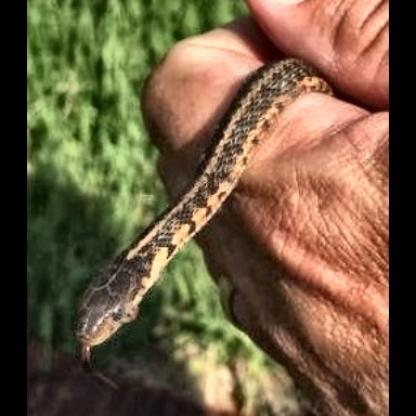Snake: (69, 154, 316, 346)
